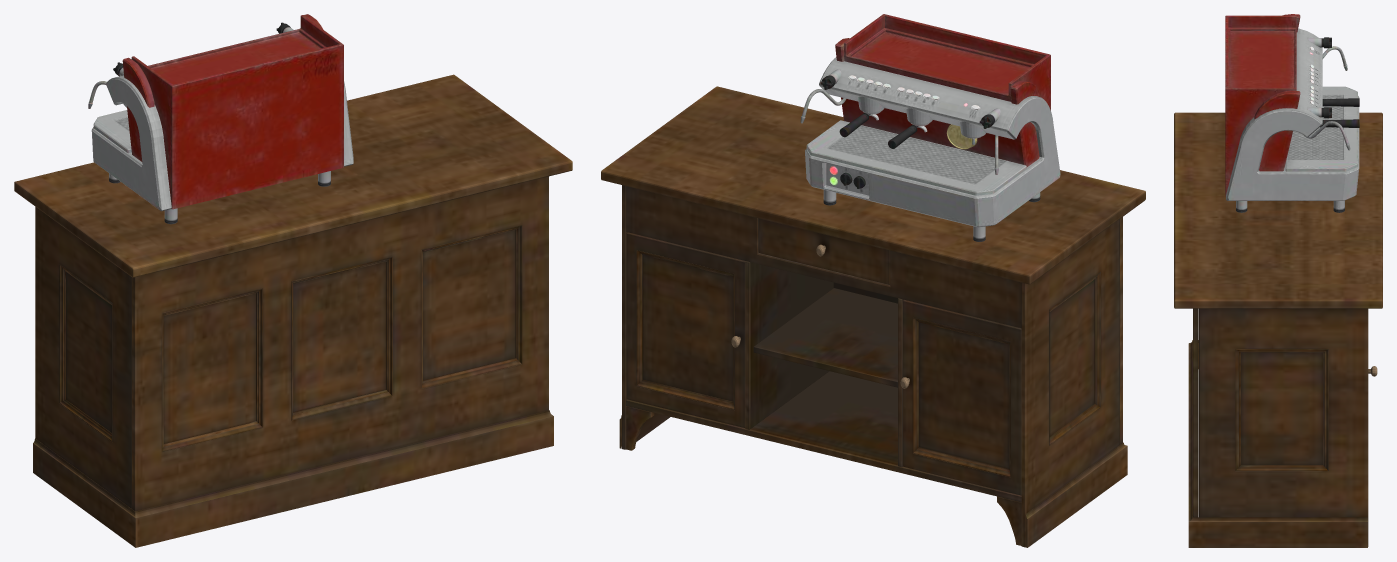
The model's file is espresso_bar.glb.
3 views of the same model, side by side, from view 1: azimuth 30°, elevation 25°; view 2: azimuth 150°, elevation 25°; view 3: azimuth 270°, elevation 25° (orthographic). The views are drawn at different scales.
Visible parts, largest first — view 1: bar_counter_3_n0, espresso_machine_1_n1, espresso_machine_0_n1, espresso_machine_30_n1, espresso_machine_28_n1; view 2: bar_counter_3_n0, espresso_machine_0_n1, espresso_machine_1_n1, espresso_machine_28_n1, espresso_machine_30_n1; view 3: bar_counter_3_n0, espresso_machine_0_n1, espresso_machine_1_n1, espresso_machine_28_n1, espresso_machine_30_n1, espresso_machine_22_n1, espresso_machine_13_n1.
Part boxes in pixels (x1=…): bar_counter_3_n0: x1=14, y1=74, x2=572, y2=547; espresso_machine_1_n1: x1=131, y1=15, x2=343, y2=209; espresso_machine_0_n1: x1=91, y1=75, x2=353, y2=211; espresso_machine_30_n1: x1=122, y1=14, x2=323, y2=161; espresso_machine_28_n1: x1=93, y1=110, x2=131, y2=153; bar_counter_3_n0: x1=601, y1=86, x2=1145, y2=547; espresso_machine_0_n1: x1=805, y1=57, x2=1060, y2=227; espresso_machine_1_n1: x1=844, y1=14, x2=1050, y2=110; espresso_machine_28_n1: x1=806, y1=120, x2=1026, y2=195; espresso_machine_30_n1: x1=835, y1=38, x2=1040, y2=167; bar_counter_3_n0: x1=1174, y1=112, x2=1382, y2=547; espresso_machine_0_n1: x1=1226, y1=28, x2=1359, y2=200; espresso_machine_1_n1: x1=1225, y1=15, x2=1296, y2=196; espresso_machine_28_n1: x1=1285, y1=86, x2=1357, y2=171; espresso_machine_30_n1: x1=1254, y1=14, x2=1300, y2=171; espresso_machine_22_n1: x1=1322, y1=98, x2=1359, y2=106; espresso_machine_13_n1: x1=1320, y1=119, x2=1359, y2=127.
Size of the model in its own units: 1.6 by 1.5 by 0.75.
Materials: 3 (3 with a texture image).
